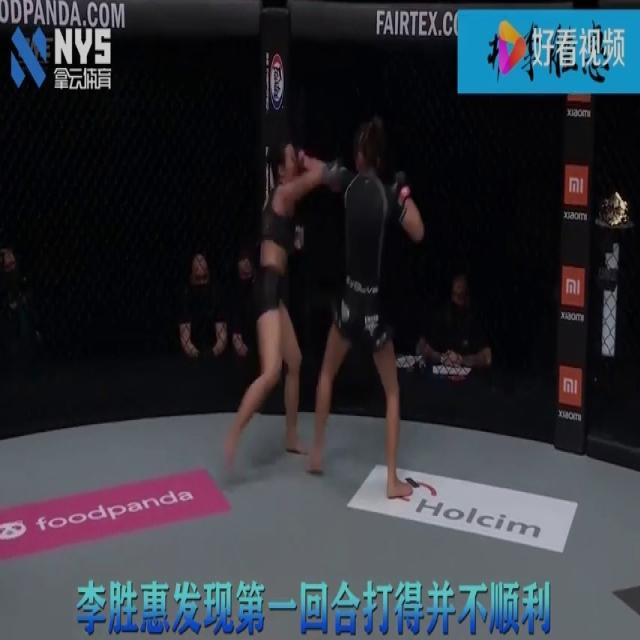fight: (222, 122, 424, 499)
non-fight: (178, 256, 228, 361), (1, 248, 43, 364), (230, 248, 262, 362)
